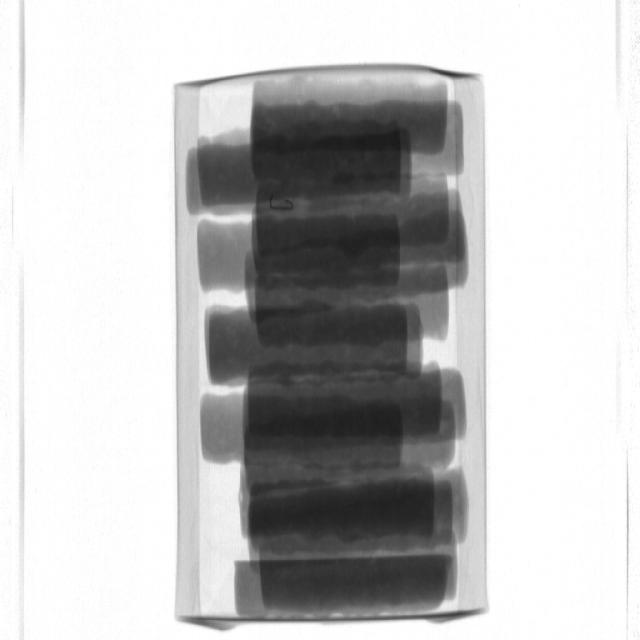ym: (270, 196, 295, 211)
